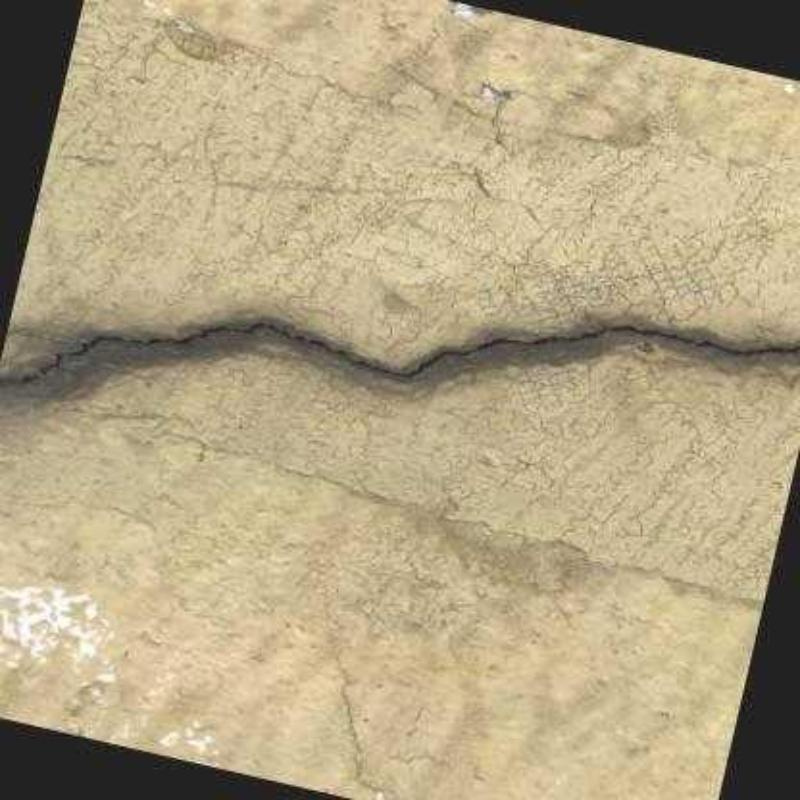crack: (0, 321, 798, 385), (333, 646, 387, 798)
